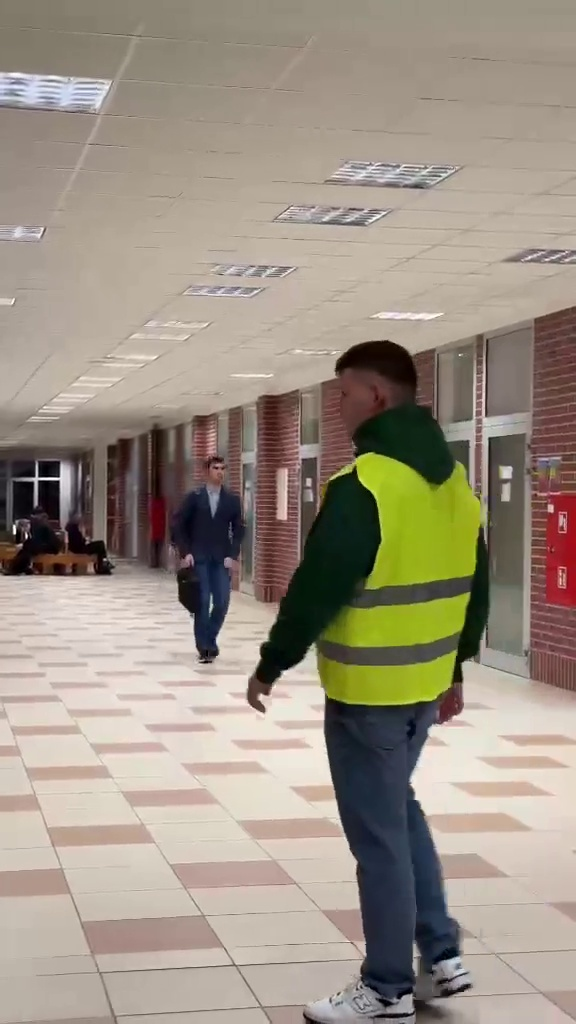no vest: (175, 453, 243, 662)
vest: (257, 337, 495, 1010)
